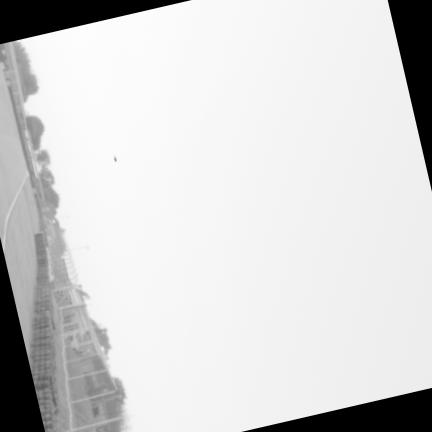Shahed: (114, 156, 116, 162)
